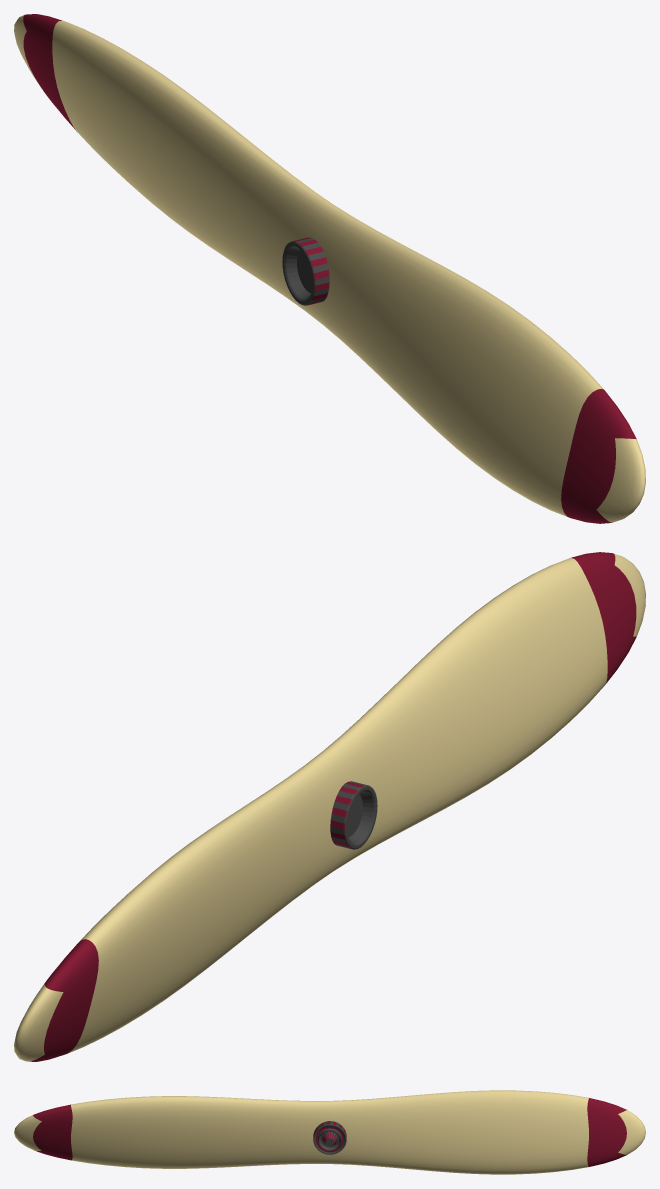
File: Propeller.fbx
The picture shows the model from 3 angles, top to bottom: view 1: azimuth 30°, elevation 25°; view 2: azimuth 150°, elevation 25°; view 3: azimuth 270°, elevation 25°; orthographic projection. The views are drawn at different scales.
Parts seen in each view (by area): view 1: PropellerExp; view 2: PropellerExp; view 3: PropellerExp.
Boxes of the visible parts, <box> form: PropellerExp: <box>14,14,645,523</box>; PropellerExp: <box>14,552,645,1061</box>; PropellerExp: <box>14,1090,645,1174</box>.
Bounding box in the file's own units: 190 × 12.64 × 25.83.
